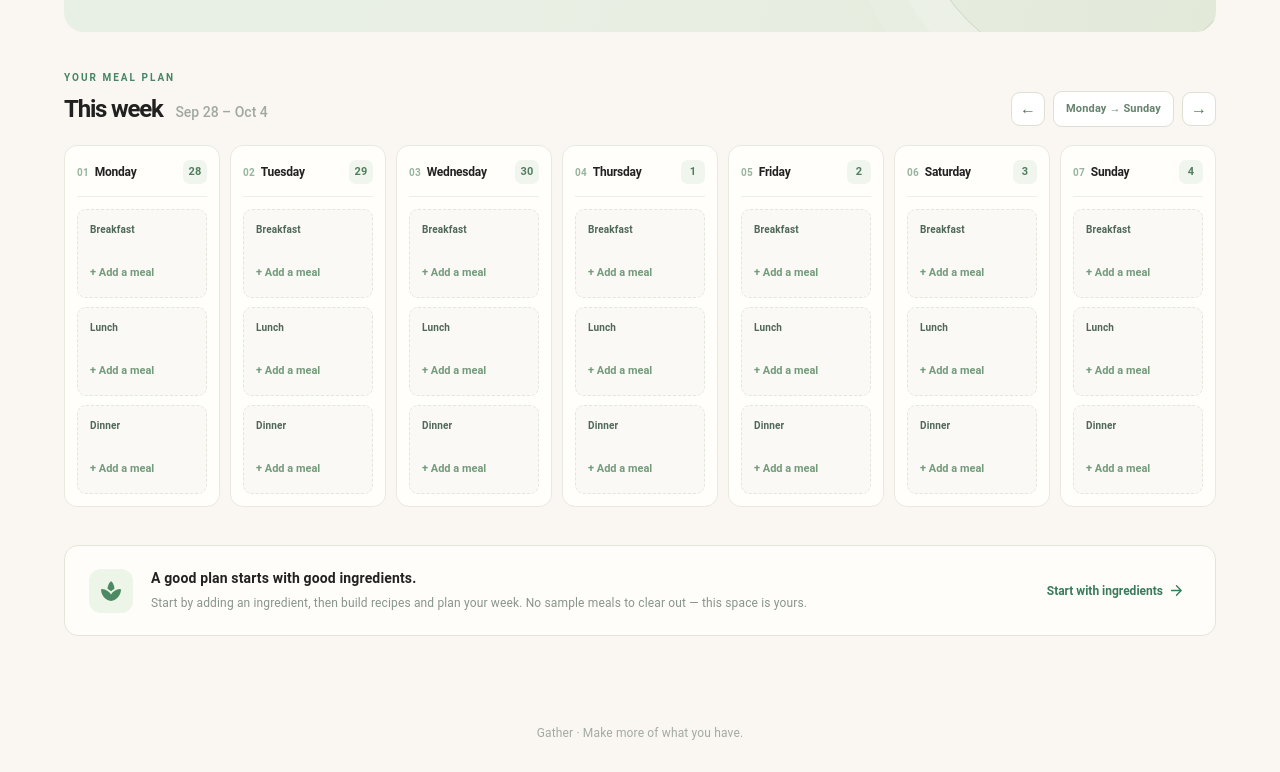
weekly meal planner › does not offer a pretend plan when the recipe catalog is empty
This screenshot has width=1280, height=772.
(page scrolled)
Click the button with aria-label "add dinner on monday".
click(142, 469)  # box [90, 456, 194, 481]
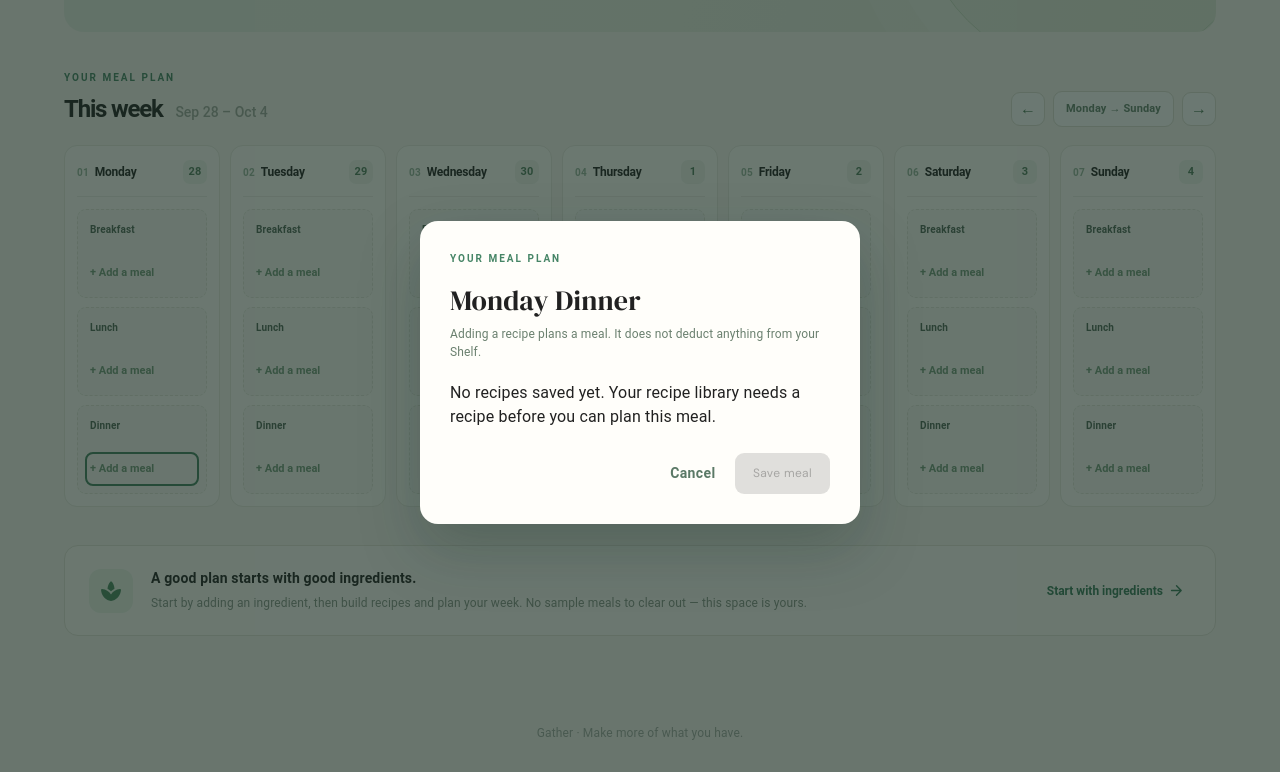
Check: the text "No recipes saved yet" is shown, box [450, 382, 800, 426]
Check: the button "Save meal" is disabled, box [735, 452, 830, 494]
